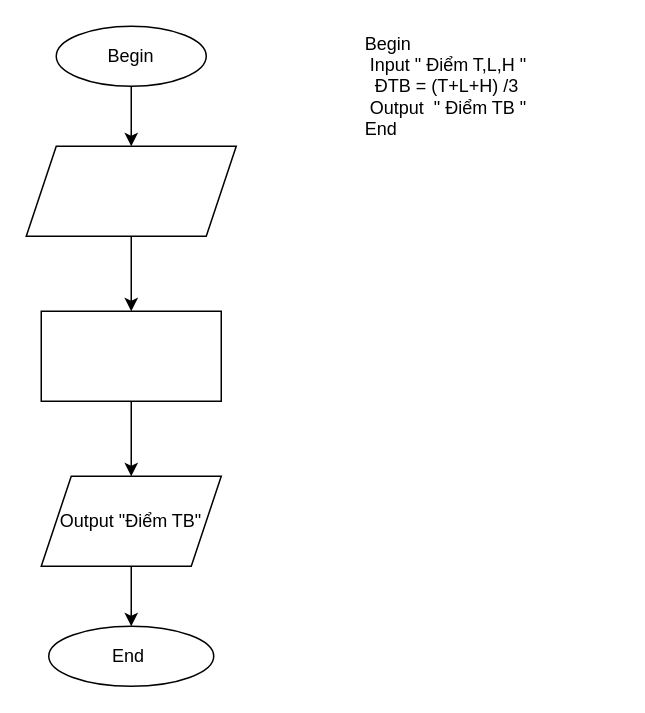
The diagram is 645 pixels wide and 713 high, and some of its shapes have lost their labels. Each missing label, with the centre of its shape:
Input "Điểm T,L,H ": the point at 130,190
ĐTB = ( T+L+H ) / 3: the point at 130,355
